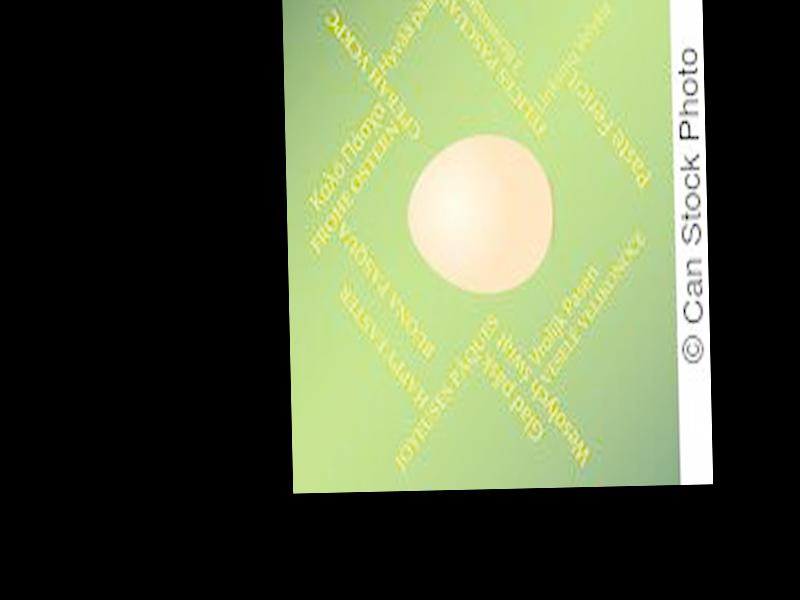Eggs: (406, 135, 554, 294)
